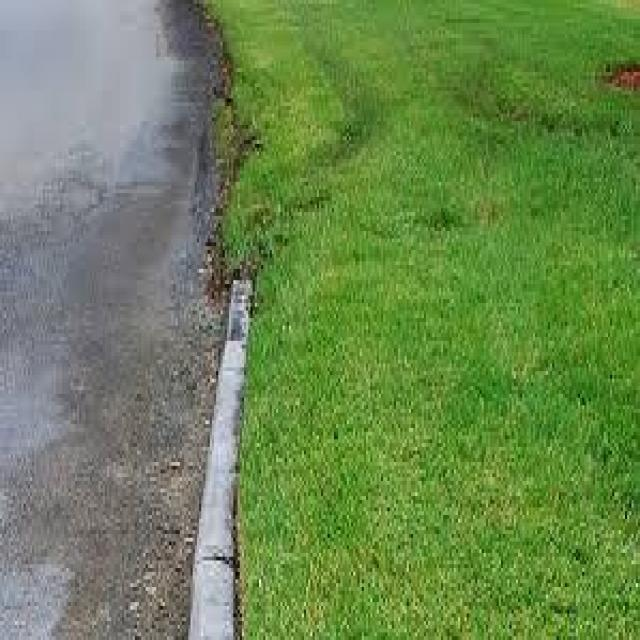curb: (193, 284, 252, 640)
